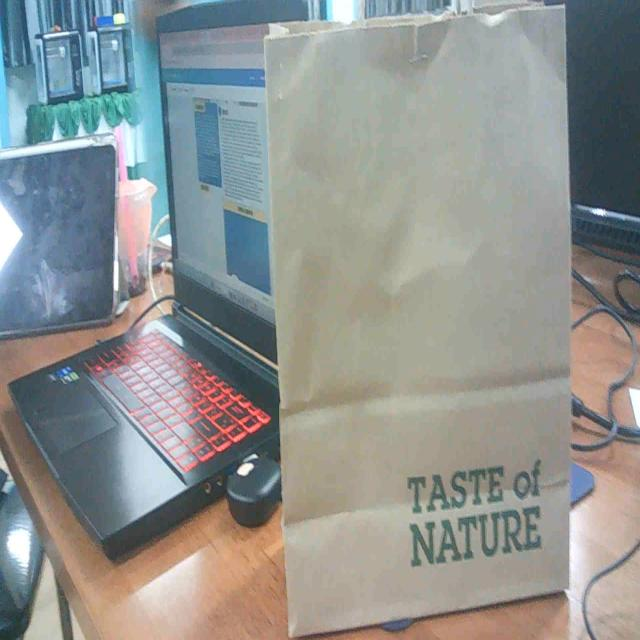bag: (243, 24, 592, 606)
